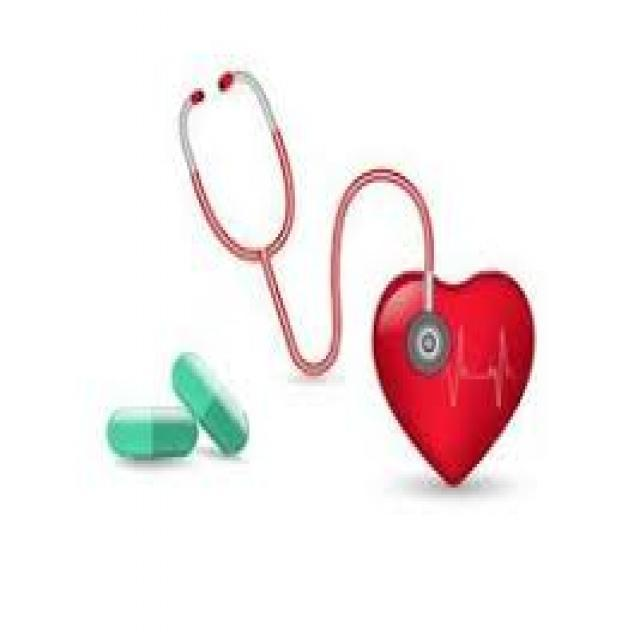stethoscope: (174, 63, 572, 485)
